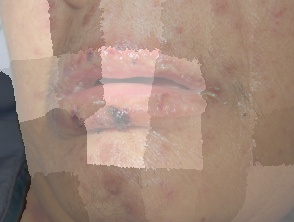SJS-TEN: (29, 12, 233, 154)
